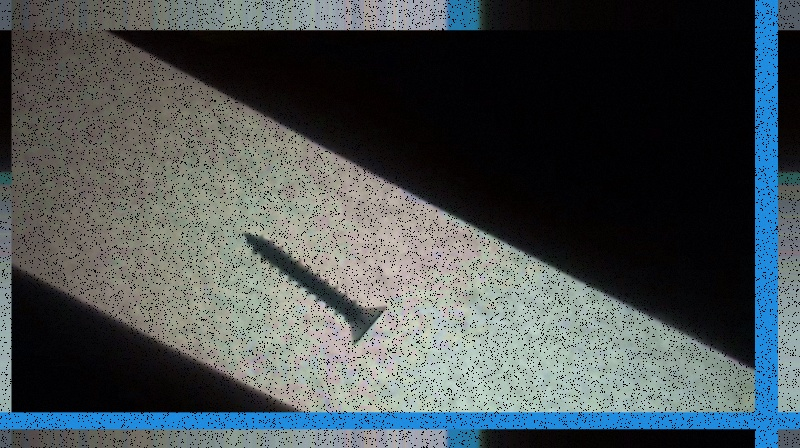S001: (238, 228, 389, 349)
